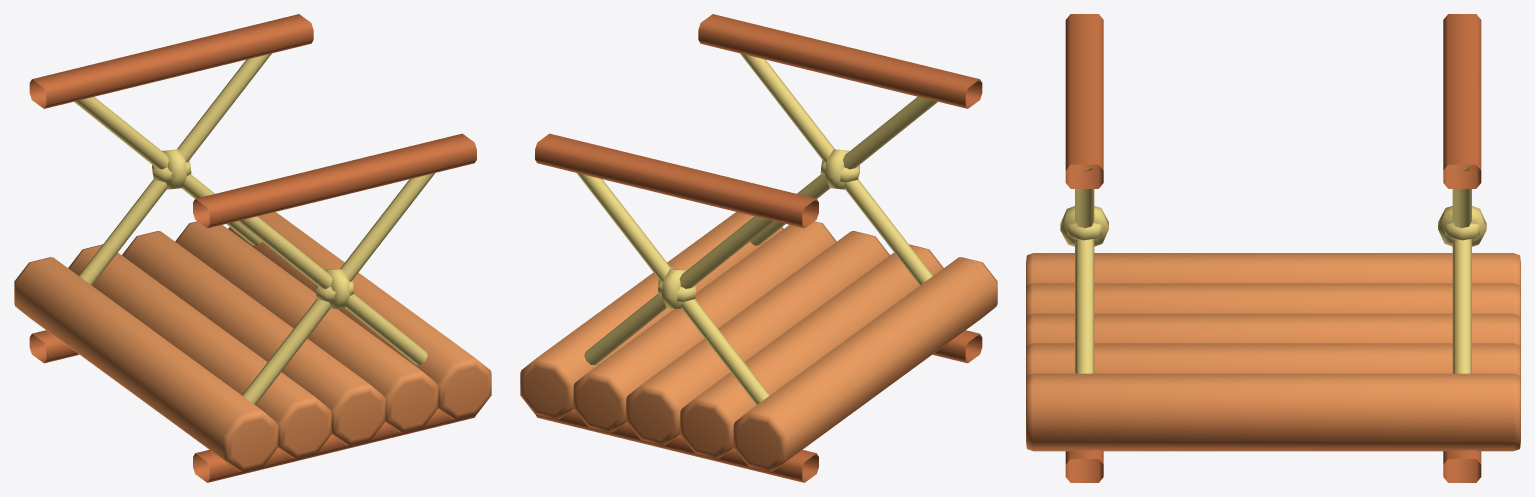
File: platform_kit004.fbx
3 views of the same model, side by side, from view 1: azimuth 30°, elevation 25°; view 2: azimuth 150°, elevation 25°; view 3: azimuth 270°, elevation 25° (orthographic). The views are drawn at different scales.
Visible parts, largest first — view 1: platform_kit004; view 2: platform_kit004; view 3: platform_kit004.
Part boxes in pixels (<box>): platform_kit004: <box>14,14,491,482</box>; platform_kit004: <box>520,14,997,482</box>; platform_kit004: <box>1026,14,1520,482</box>.
Bounding box in the file's own units: 100 × 98.4 × 139.
1 material, 1 textured.
